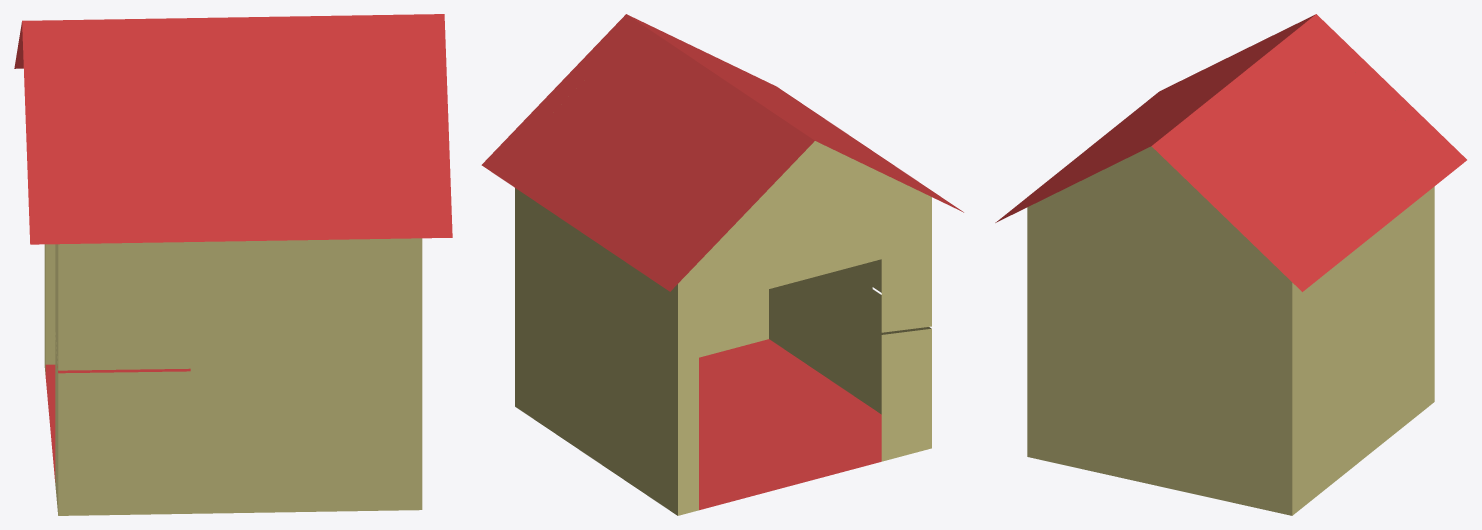
3 renders of one model, left to right at view 1: azimuth 30°, elevation 25°; view 2: azimuth 150°, elevation 25°; view 3: azimuth 270°, elevation 25°, orthographic. The views are drawn at different scales.
Bounding box in the file's own units: 19.52 × 19.42 × 15.86.
